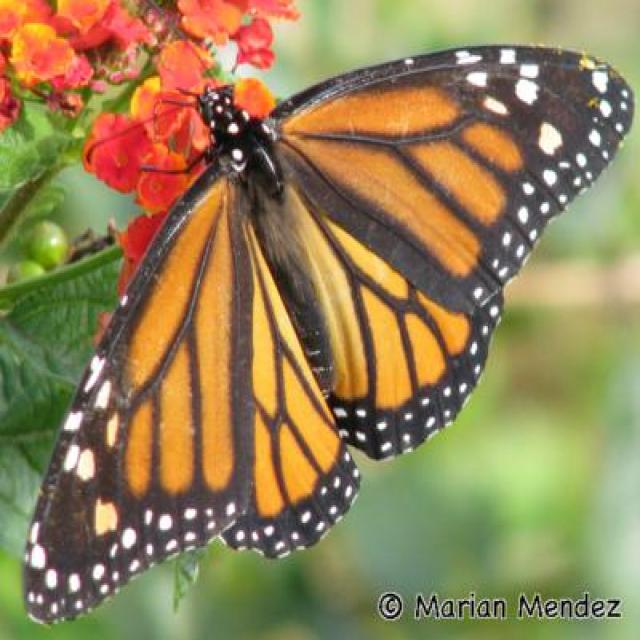body: (195, 82, 336, 400)
insect: (24, 41, 633, 619)
wings: (271, 46, 636, 460), (26, 170, 359, 618)
